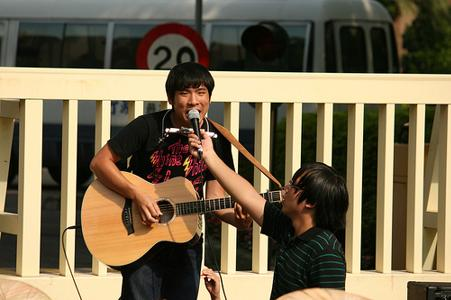person: (90, 62, 255, 299)
